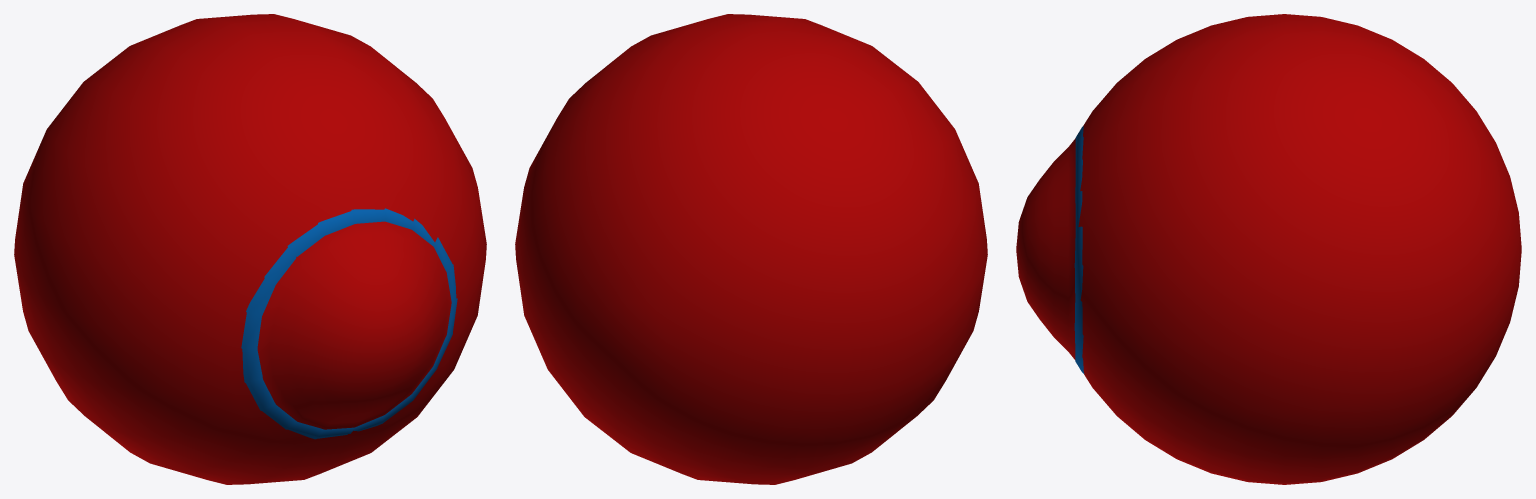
The model's file is Eye_Low.fbx.
3 views of the same model, side by side, from view 1: azimuth 30°, elevation 25°; view 2: azimuth 150°, elevation 25°; view 3: azimuth 270°, elevation 25° (orthographic).
Parts seen in each view (by area): view 1: Scalera_Low, Iris_Low; view 2: Scalera_Low; view 3: Scalera_Low, Iris_Low.
Boxes of the visible parts, left/top/right/bottom form: Scalera_Low: left=14, top=14, right=486, bottom=484; Iris_Low: left=241, top=208, right=457, bottom=439; Scalera_Low: left=515, top=14, right=987, bottom=484; Scalera_Low: left=1016, top=14, right=1521, bottom=484; Iris_Low: left=1074, top=126, right=1084, bottom=373.
Bounding box in the file's own units: 2.4 × 2.4 × 2.56.
